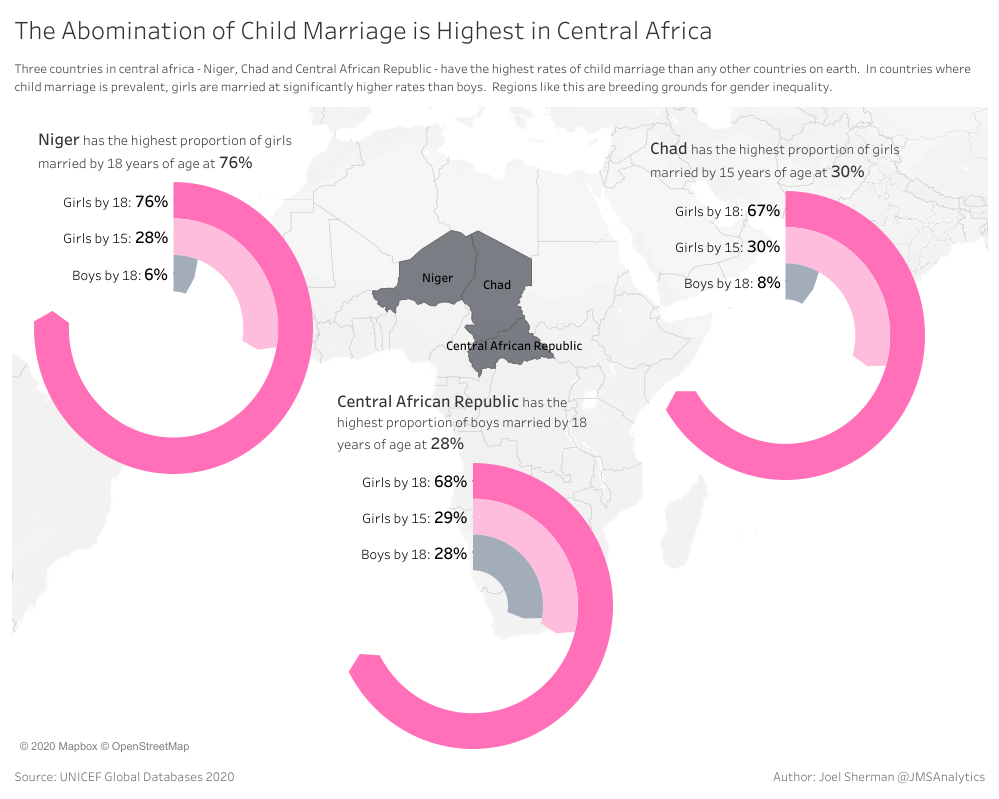

Layout of this report page (visuals, bound fields, positions):
{"tool":"tableau","page":{"name":"ChildMarriage","canvas":[1000,800],"ordinal":0},"visuals":[{"type":"worksheet","box":[0,0,1000,800]},{"type":"worksheet","param":"horz","box":[8,8,984,752]},{"type":"worksheet","param":"vert","box":[8,8,984,752]},{"type":"worksheet","box":[8,8,984,42]},{"type":"worksheet","box":[8,50,984,53]},{"type":"worksheet","box":[8,103,984,657]},{"type":"worksheet","title":"Africa","mark":"Multipolygon","box":[8,103,984,657]},{"type":"worksheet","title":"Niger","mark":"Polygon","rows":["Calculation_7026600611909492755"],"box":[34,121,279,353]},{"type":"worksheet","title":"Chad","mark":"Polygon","rows":["Calculation_7026600611909492755"],"box":[646,130,279,350]},{"type":"worksheet","title":"CAR","mark":"Polygon","rows":["Calculation_7026600611909492755"],"box":[333,383,280,366]},{"type":"worksheet","box":[8,760,492,32]},{"type":"worksheet","box":[500,760,492,32]}]}

Visuals, with their boxes in screenshot pixels (x1, y1, x2, y2), scaled from the page's 1000x800 canvas onto the 999x799 screenshot:
worksheet: rect(0, 0, 998, 798)
worksheet: rect(8, 8, 991, 759)
worksheet: rect(8, 8, 991, 759)
worksheet: rect(8, 8, 991, 50)
worksheet: rect(8, 50, 991, 103)
worksheet: rect(8, 103, 991, 759)
"Africa" worksheet (Multipolygon marks): rect(8, 103, 991, 759)
"Niger" worksheet (Polygon marks): rect(34, 121, 313, 473)
"Chad" worksheet (Polygon marks): rect(645, 130, 924, 479)
"CAR" worksheet (Polygon marks): rect(333, 383, 612, 748)
worksheet: rect(8, 759, 500, 791)
worksheet: rect(500, 759, 991, 791)
